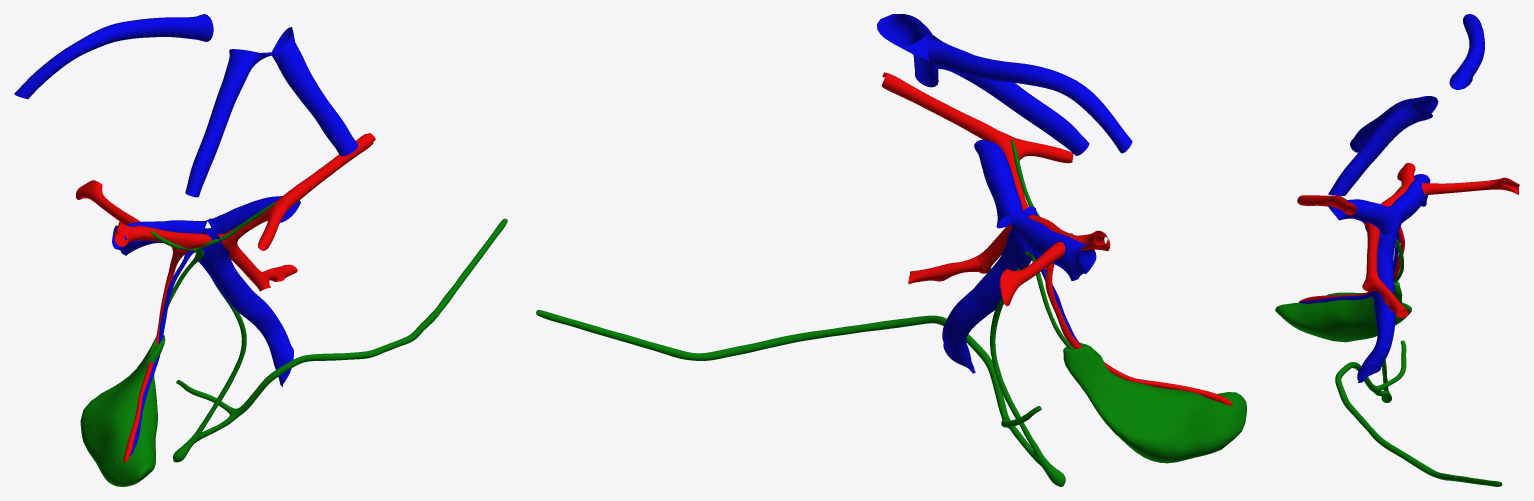
The model's file is VH_F_Liver_Landmarks.fbx.
3 renders of one model, left to right at view 1: azimuth 30°, elevation 25°; view 2: azimuth 150°, elevation 25°; view 3: azimuth 270°, elevation 25°, orthographic. The views are drawn at different scales.
Visible parts, largest first — view 1: VH_F_liver_landmark_veins_of_liver, VH_F_liver_landmark_gallbladder, VH_F_liver_landmark_arteries_of_liver, VH_F_liver_landmark_biliary_tree, VH_F_liver_landmark_cystic_artery, VH_F_liver_landmark_cystic_vein; view 2: VH_F_liver_landmark_veins_of_liver, VH_F_liver_landmark_gallbladder, VH_F_liver_landmark_arteries_of_liver, VH_F_liver_landmark_biliary_tree, VH_F_liver_landmark_cystic_artery; view 3: VH_F_liver_landmark_veins_of_liver, VH_F_liver_landmark_gallbladder, VH_F_liver_landmark_arteries_of_liver, VH_F_liver_landmark_biliary_tree, VH_F_liver_landmark_cystic_artery, VH_F_liver_landmark_cystic_vein.
Boxes of the visible parts, left/top/right/bottom form: VH_F_liver_landmark_veins_of_liver: left=14, top=14, right=357, bottom=386; VH_F_liver_landmark_gallbladder: left=80, top=335, right=165, bottom=486; VH_F_liver_landmark_arteries_of_liver: left=76, top=133, right=375, bottom=291; VH_F_liver_landmark_biliary_tree: left=150, top=202, right=507, bottom=462; VH_F_liver_landmark_cystic_artery: left=123, top=251, right=183, bottom=462; VH_F_liver_landmark_cystic_vein: left=129, top=251, right=193, bottom=456; VH_F_liver_landmark_veins_of_liver: left=877, top=14, right=1132, bottom=373; VH_F_liver_landmark_gallbladder: left=1063, top=342, right=1246, bottom=463; VH_F_liver_landmark_arteries_of_liver: left=881, top=72, right=1110, bottom=305; VH_F_liver_landmark_biliary_tree: left=536, top=140, right=1073, bottom=486; VH_F_liver_landmark_cystic_artery: left=1045, top=263, right=1232, bottom=405; VH_F_liver_landmark_veins_of_liver: left=1328, top=14, right=1484, bottom=382; VH_F_liver_landmark_gallbladder: left=1275, top=281, right=1411, bottom=342; VH_F_liver_landmark_arteries_of_liver: left=1297, top=163, right=1519, bottom=317; VH_F_liver_landmark_biliary_tree: left=1335, top=185, right=1502, bottom=486; VH_F_liver_landmark_cystic_artery: left=1298, top=226, right=1404, bottom=302; VH_F_liver_landmark_cystic_vein: left=1300, top=233, right=1399, bottom=303.
Size of the model in its own units: 20.13 by 15.46 by 9.29.
